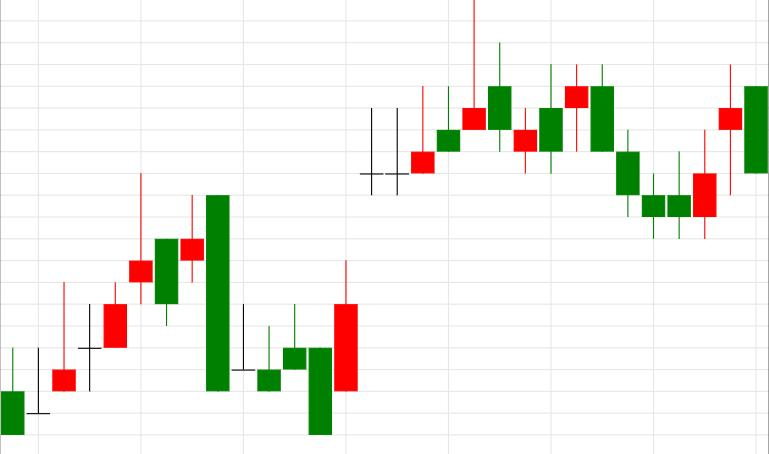bearish_engulfing_fall: (52, 173, 229, 392)
bullish_engulfing_rise: (591, 65, 716, 239)
